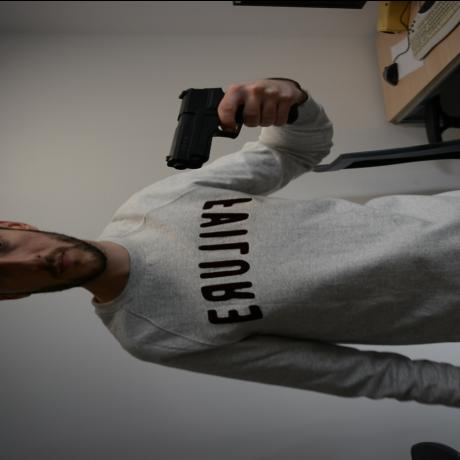1: (0, 77, 460, 409)
weapon: (158, 80, 287, 170)
